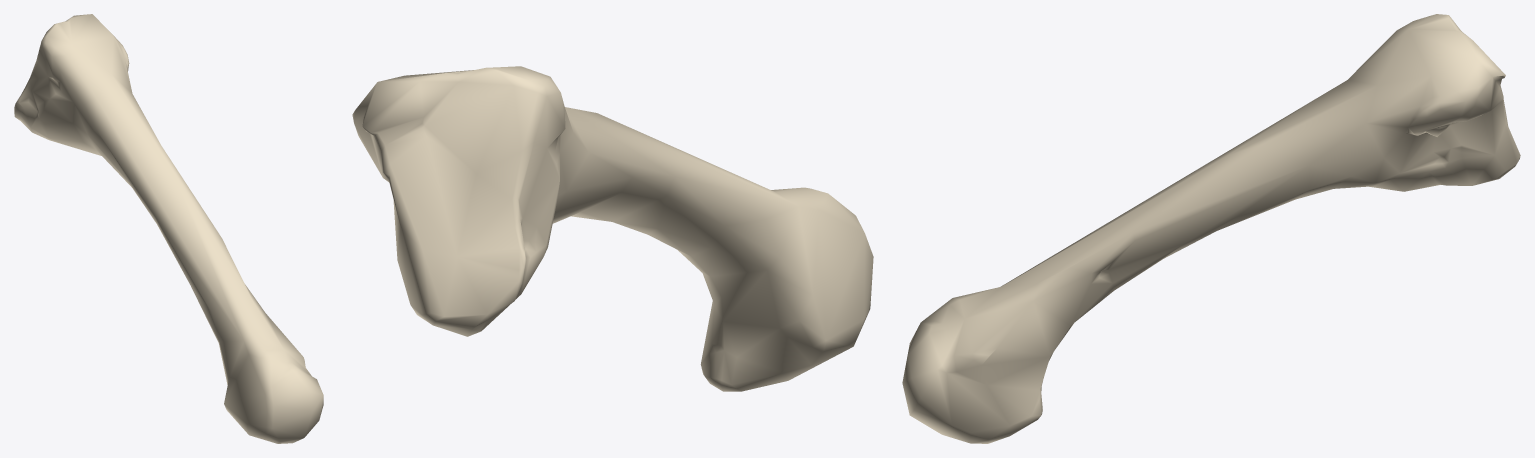
File: second-metatarsal-bone-l.glb
3 renders of one model, left to right at view 1: azimuth 30°, elevation 25°; view 2: azimuth 150°, elevation 25°; view 3: azimuth 270°, elevation 25°, orthographic. The views are drawn at different scales.
Visible parts, largest first — view 1: Second metatarsal bone.l; view 2: Second metatarsal bone.l; view 3: Second metatarsal bone.l.
Boxes of the visible parts, left/top/right/bottom form: Second metatarsal bone.l: left=14, top=14, right=323, bottom=443; Second metatarsal bone.l: left=352, top=66, right=873, bottom=391; Second metatarsal bone.l: left=902, top=14, right=1520, bottom=443.
Size of the model in its own units: 0.0174 by 0.0499 by 0.0705.
